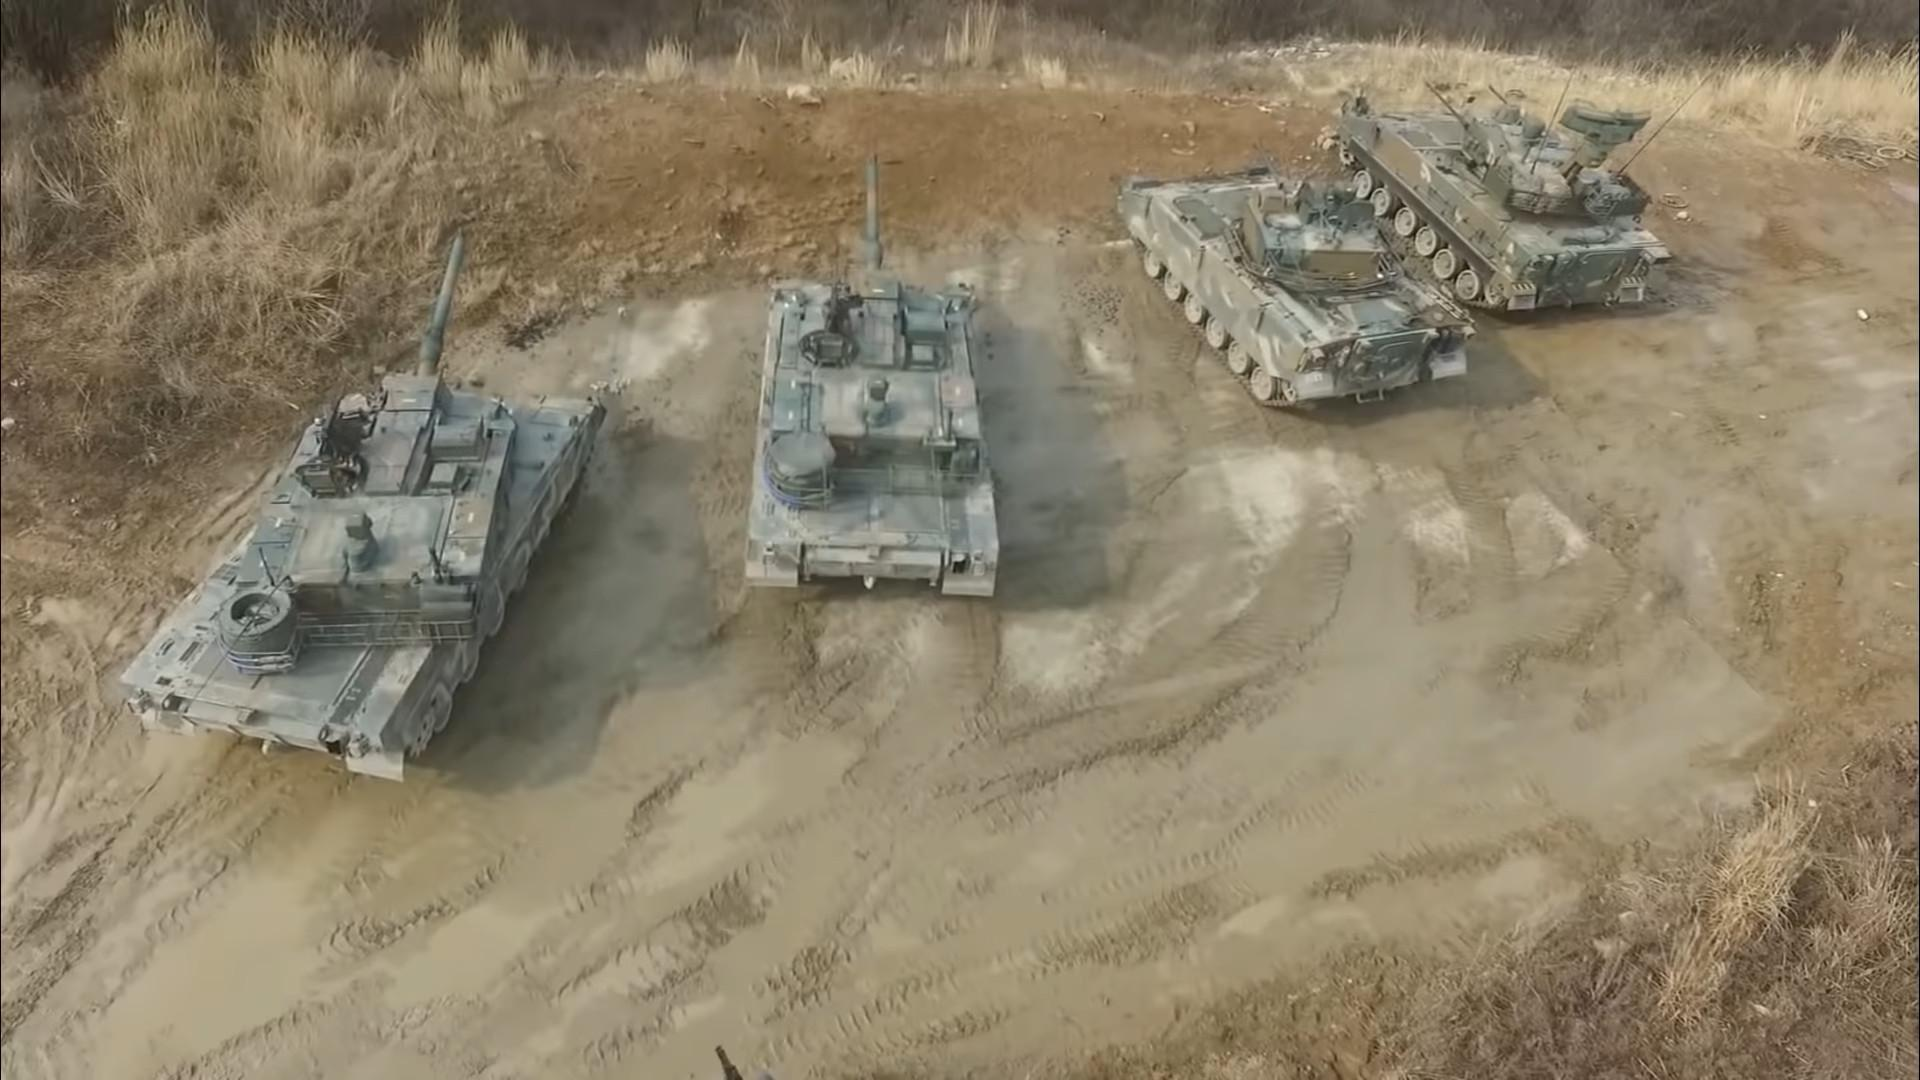tank: (117, 236, 604, 785), (745, 152, 1000, 595), (1117, 141, 1474, 405), (1338, 82, 1673, 310)
